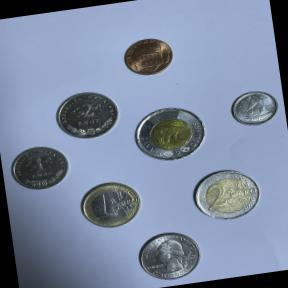1 Euro: (73, 176, 148, 236)
2 Euro: (184, 161, 268, 230)
Canda-10cent-: (223, 85, 285, 133)
Canda-2Dollar-: (124, 98, 215, 170)
Croatia-2Kune-: (46, 84, 126, 146)
US-1cent-: (118, 31, 180, 82)
US-25cent-: (131, 224, 206, 286)
